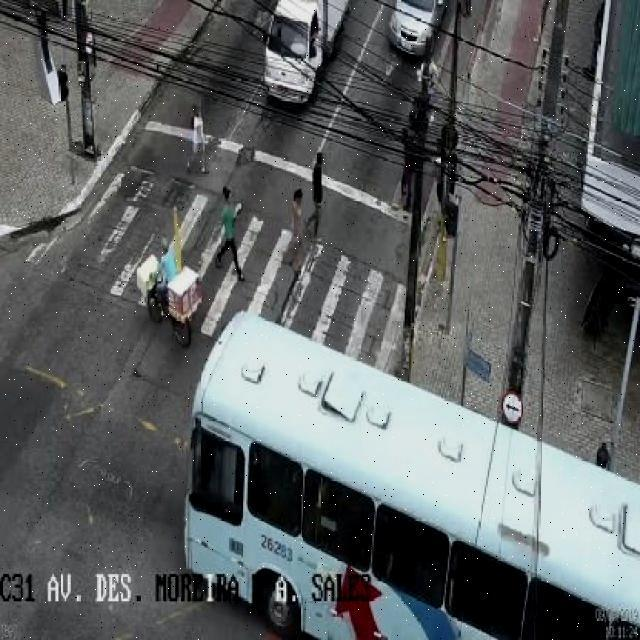bus: (185, 312, 640, 640)
motorcycle: (148, 280, 191, 347)
pedestrian: (215, 186, 244, 279), (188, 115, 209, 173), (312, 152, 322, 238), (291, 189, 304, 241)
road-signs: (499, 386, 524, 428)
traffic-lights: (58, 65, 69, 101)
